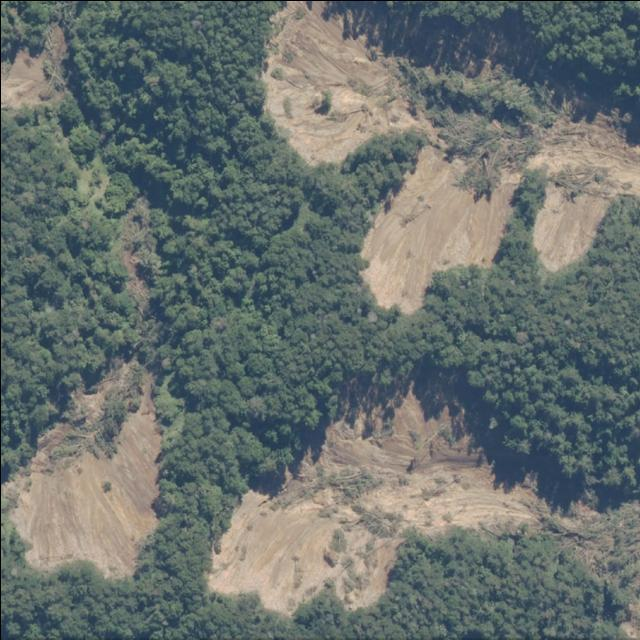landslide: (262, 1, 520, 312), (206, 390, 549, 616), (3, 362, 161, 578), (526, 114, 640, 270)
